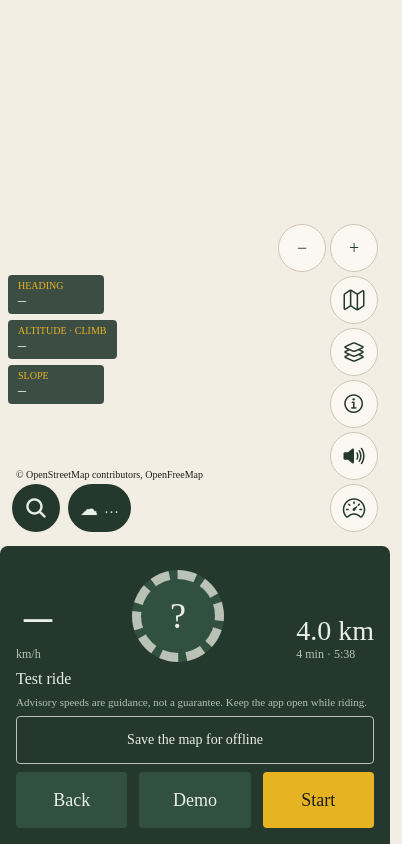
Test case: without a route it keeps pointing the way and never flags the rider off route on that line
Click the button "Start" at (318, 800), box [263,772,374,828]
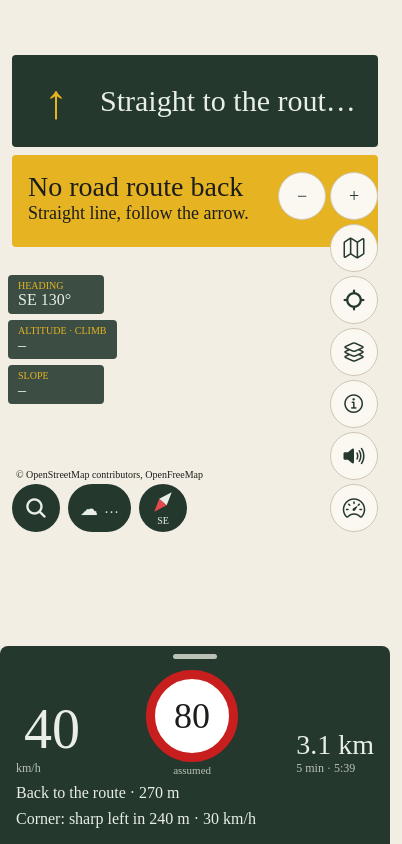
expect the text "Back to the route · 270 m" is shown: met, box [16,784,180,801]
